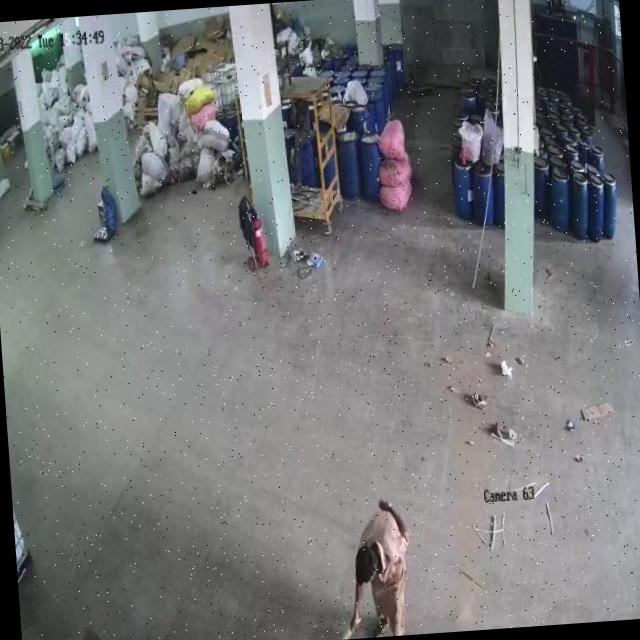person: (350, 503, 415, 638)
